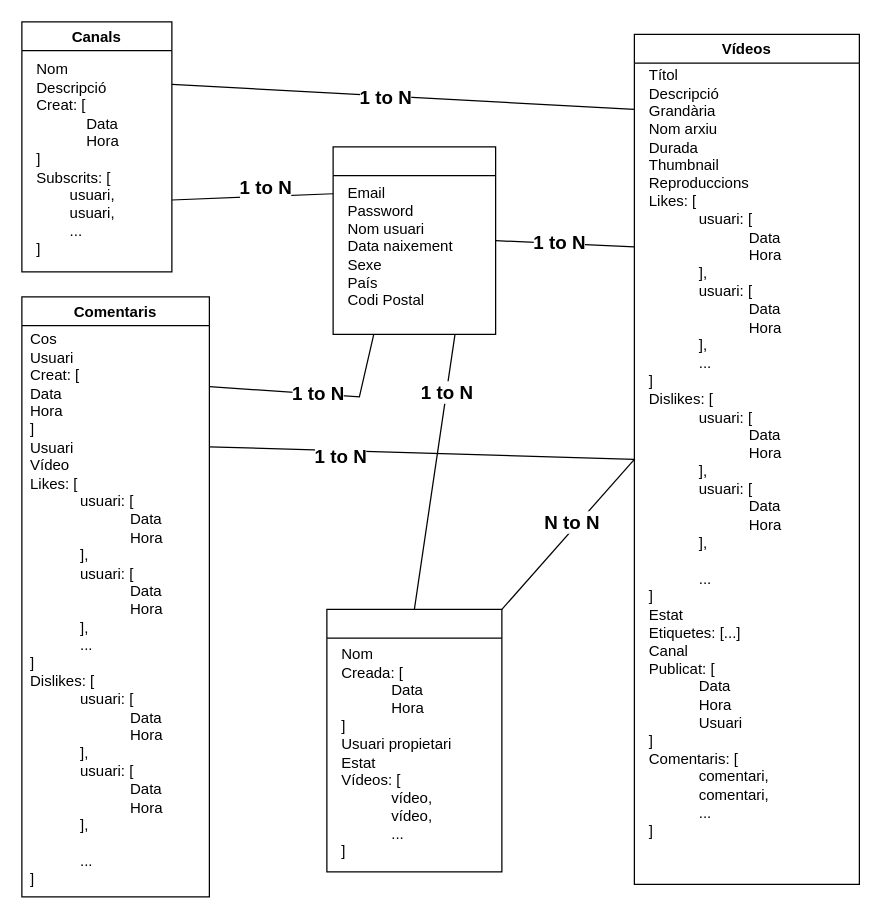
Some shapes in this 881 by 919 pixel diagram are drawn without their labels. The shapes that lost their labels are listed below. From the top down, each one's box as (x1, y1, x2, y2) in pixels, then its label:
(332, 146, 496, 334): Usuaris
(326, 608, 502, 872): Playlists
